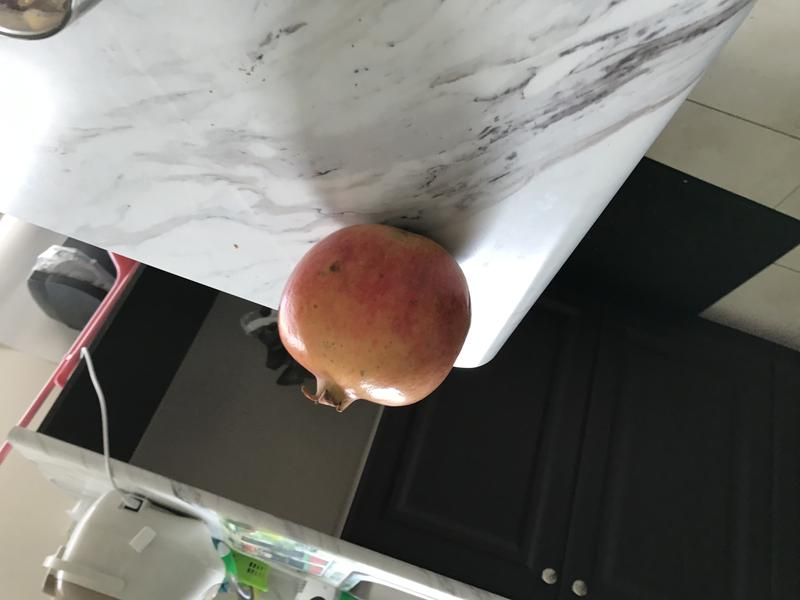pomegranate: (261, 212, 485, 437)
